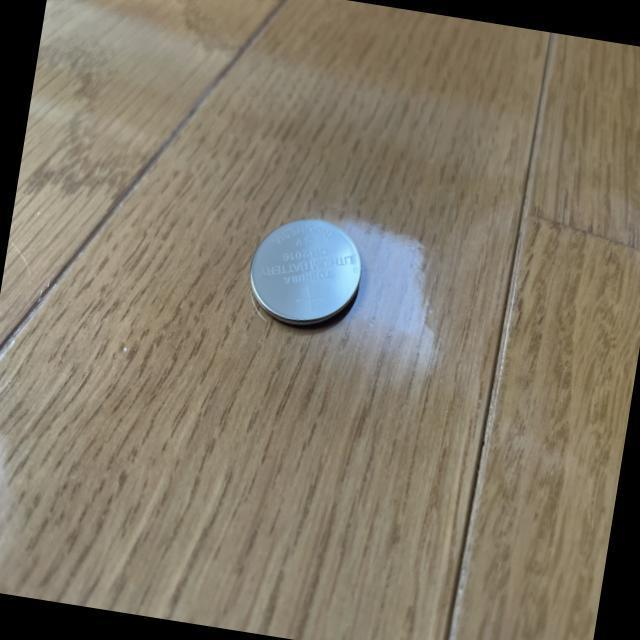COIN: (238, 206, 374, 344)
